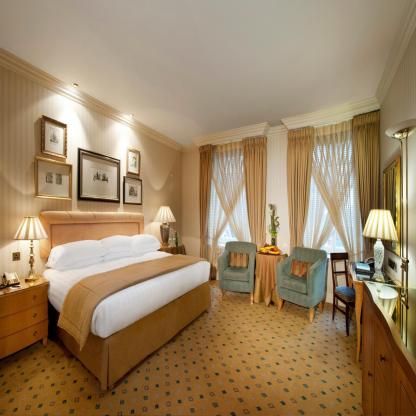other: (60, 83, 142, 136), (259, 236, 283, 260)
